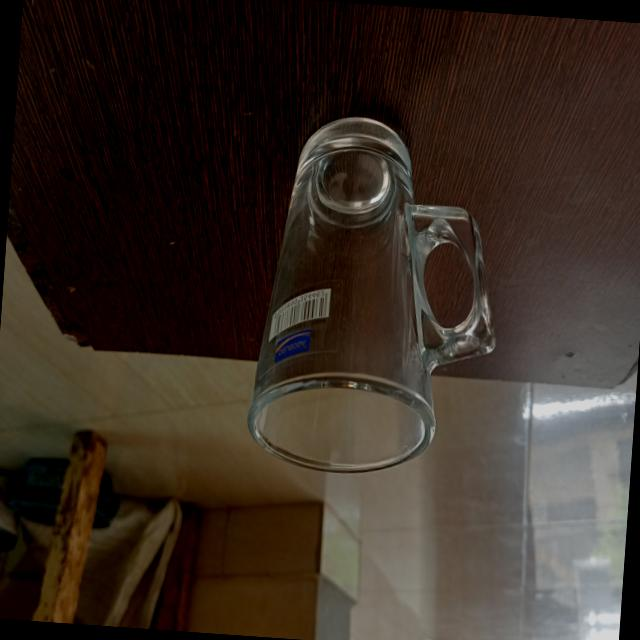glass-VX4N: (242, 88, 510, 486)
